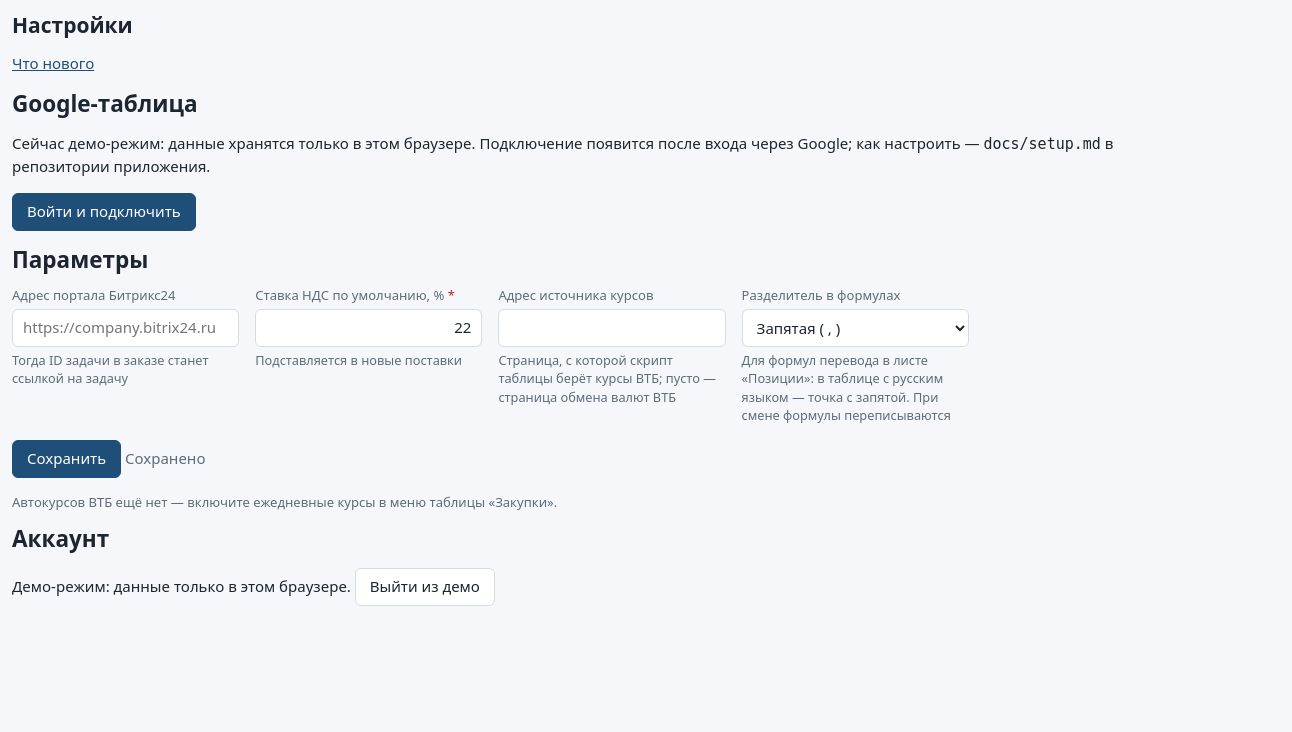
Scenario: экран настроек › неверная ставка НДС — ошибка у поля, ничего не пишется
The image size is (1292, 732).
Replace the text in the field labelled "Ставка НДС по умолчанию, % *" with "150". click: (369,328)
box: [255,309,482,347]
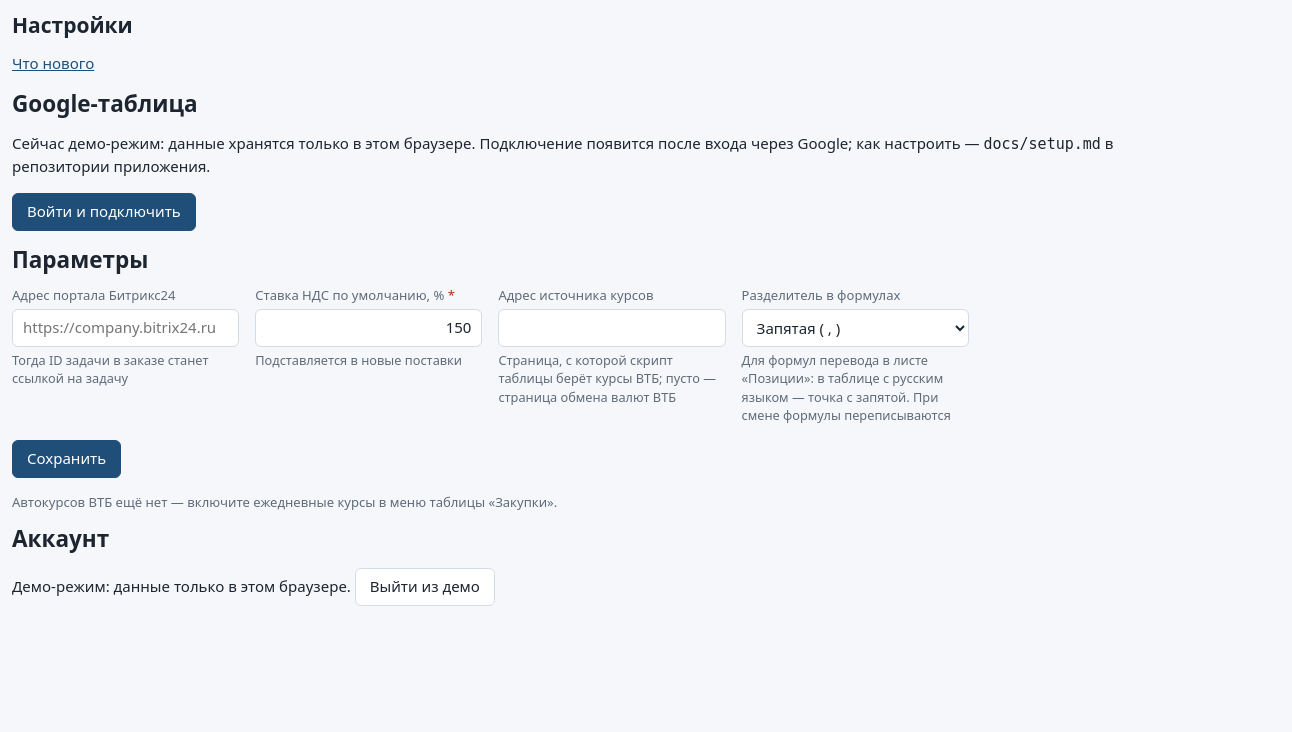
Click the button "Сохранить". click: (67,459)
box: [12,440,121,478]
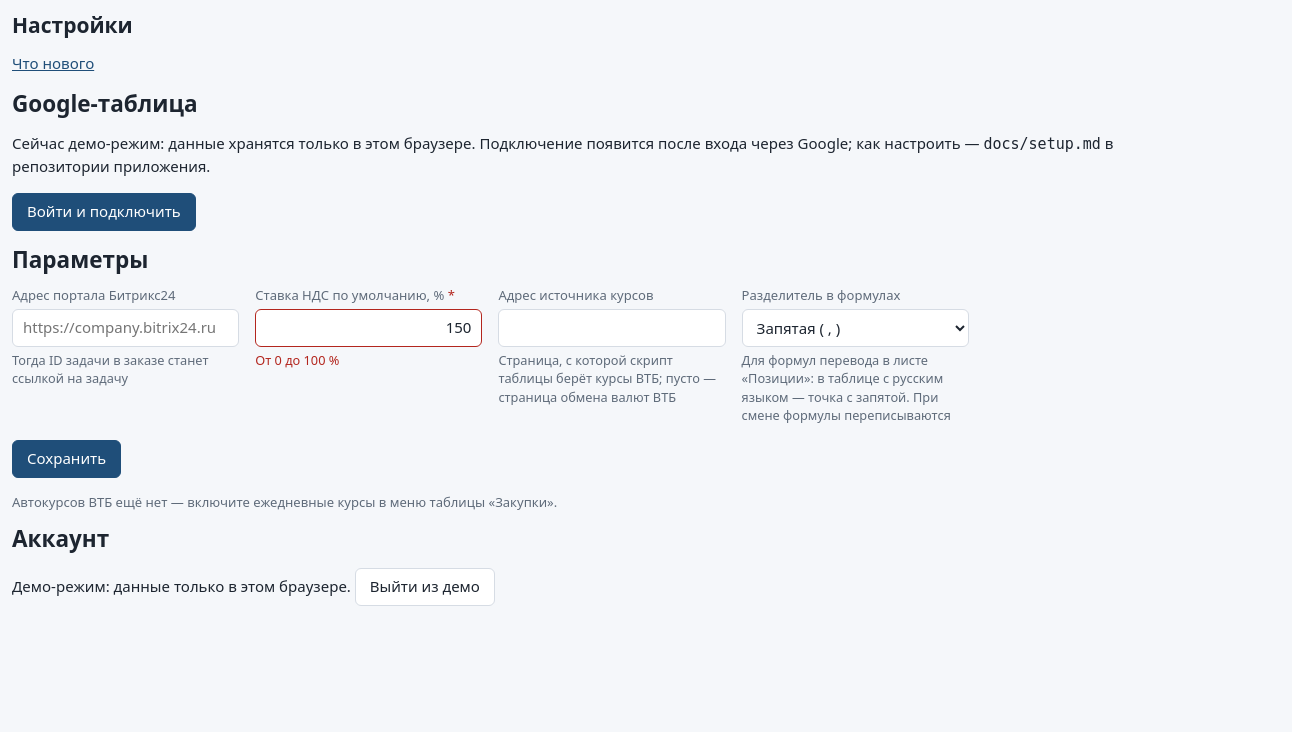
Expected: the text "От 0 до 100 %" is shown, [255,351,339,369]
